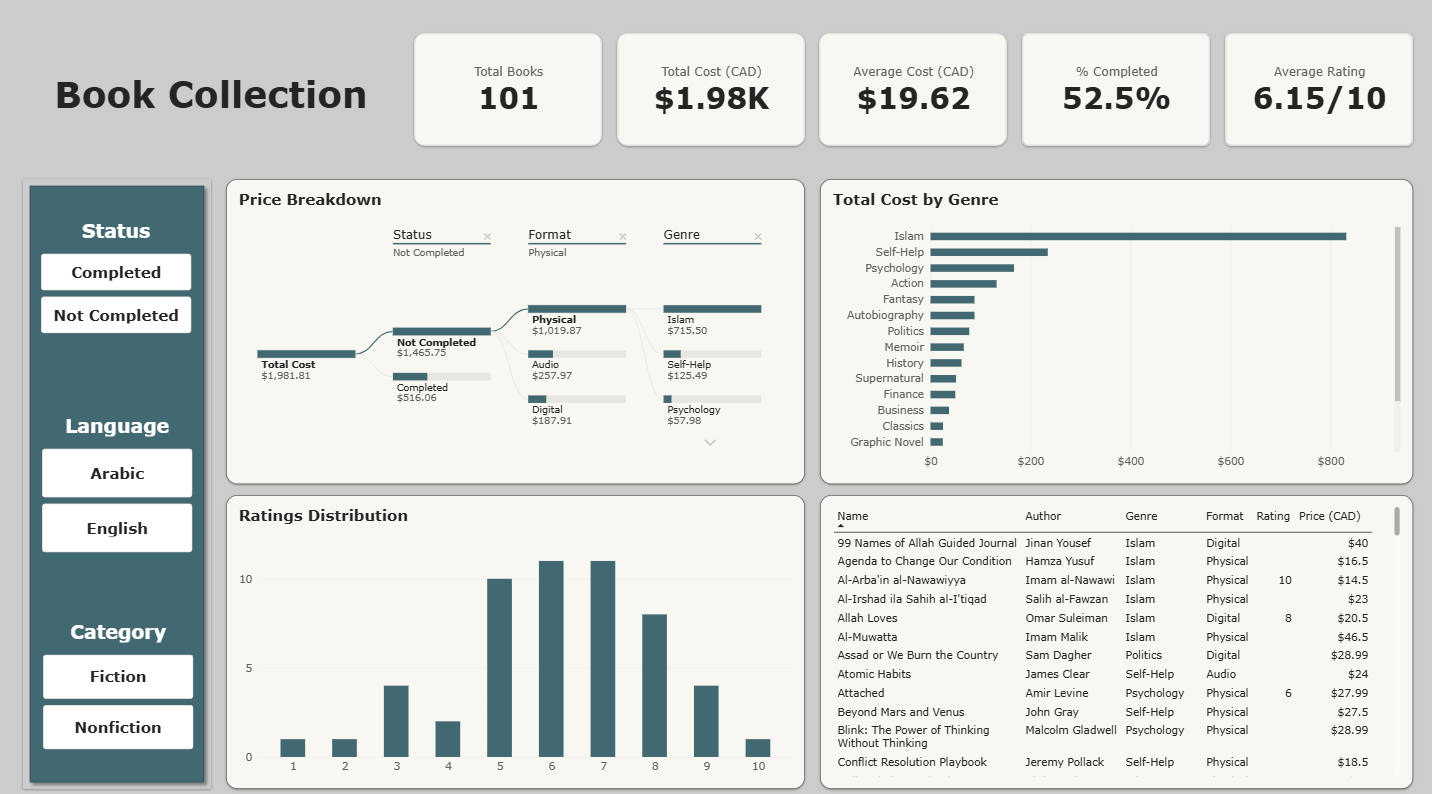

Layout of this report page (visuals, bound fields, positions):
{"tool":"powerbi","page":{"name":"Page 1","canvas":[1920,1080],"ordinal":0},"visuals":[{"type":"cardVisual","fields":{"Data":["Sum(Book Collection (2).Price (CAD))"]},"box":[825.4,57.1,250,150],"z":0,"group":"g1"},{"type":"shape","box":[35.7,251.4,250,811.4],"z":0},{"type":"advancedSlicerVisual","fields":{"Values":["Book Collection (2).Completed"]},"box":[60,304.3,200,152.9],"z":0,"group":"g2"},{"type":"cardVisual","fields":{"Data":["CountNonNull(Book Collection (2).ID)"]},"box":[555.5,57.1,250,150],"z":1000,"group":"g1"},{"type":"decompositionTreeVisual","title":"Price Breakdown","fields":{"Analyze":["Sum(Book Collection (2).Price (CAD))"],"ExplainBy":["Books.Completed","Books.Format","Book Collection (2).Genre"]},"box":[305.7,251.4,770,405.7],"z":1000},{"type":"cardVisual","fields":{"Data":["Avg(Book Collection (2).Price (CAD))"]},"box":[1095.2,57.1,250,150],"z":2000,"group":"g1"},{"type":"barChart","fields":{"Category":["Book Collection (2).Genre"],"Y":["Sum(Book Collection (2).Price (CAD))"]},"box":[1095.7,251.4,788.6,405.7],"z":2000},{"type":"advancedSlicerVisual","fields":{"Values":["Book Collection (2).Fiction/Non Fiction"]},"box":[62,837.2,200,173.3],"z":2000,"group":"g2"},{"type":"cardVisual","fields":{"Data":["Books.Percent Completed"]},"box":[1365.1,57.1,250,150],"z":3000,"group":"g1"},{"type":"clusteredColumnChart","title":"Ratings Distribution","fields":{"Category":["Books.Rating"],"Y":["CountNonNull(Books.ID)"]},"box":[305.7,671.4,770,391.4],"z":3000},{"type":"cardVisual","fields":{"Data":["Books.Avg Rating Display"]},"box":[1635,57.1,250,150],"z":4000,"group":"g1"},{"type":"tableEx","title":"Average Rating by Genre","fields":{"Values":["Books.Name","Books.Author","Books.Genre","Books.Format","Books.Rating","Books.Price (CAD)"]},"box":[1095.7,671.4,788.6,391.4],"z":4000},{"type":"group","id":"g1","title":"Group 1","box":[35.9,57.1,1849.1,150],"z":5000},{"type":"textbox","box":[35.9,108.3,500,98.6],"z":5000,"group":"g1"},{"type":"group","id":"g2","title":"Group 2","box":[60,304.3,201.4,705.7],"z":6000},{"type":"advancedSlicerVisual","fields":{"Values":["Books.Language"]},"box":[61.4,564.3,200,184.3],"z":6001}]}

Visuals, with their boxes in screenshot pixels (x1, y1, x2, y2), scaled from the page's 1920x1080 canvas onto the 1432x794 screenshot:
cardVisual - Sum(Book Collection (2).Price (CAD)): left=616, top=42, right=802, bottom=152
shape: left=27, top=185, right=213, bottom=781
advancedSlicerVisual - Book Collection (2).Completed: left=45, top=224, right=194, bottom=336
cardVisual - CountNonNull(Book Collection (2).ID): left=414, top=42, right=601, bottom=152
"Price Breakdown" decompositionTreeVisual: left=228, top=185, right=802, bottom=483
cardVisual - Avg(Book Collection (2).Price (CAD)): left=817, top=42, right=1003, bottom=152
barChart - Book Collection (2).Genre x Sum(Book Collection (2).Price (CAD)): left=817, top=185, right=1405, bottom=483
advancedSlicerVisual - Book Collection (2).Fiction/Non Fiction: left=46, top=615, right=195, bottom=743
cardVisual - Books.Percent Completed: left=1018, top=42, right=1205, bottom=152
"Ratings Distribution" clusteredColumnChart: left=228, top=494, right=802, bottom=781
cardVisual - Books.Avg Rating Display: left=1219, top=42, right=1406, bottom=152
"Average Rating by Genre" tableEx: left=817, top=494, right=1405, bottom=781
"Group 1" group: left=27, top=42, right=1406, bottom=152
textbox: left=27, top=80, right=400, bottom=152
"Group 2" group: left=45, top=224, right=195, bottom=743
advancedSlicerVisual - Books.Language: left=46, top=415, right=195, bottom=550
